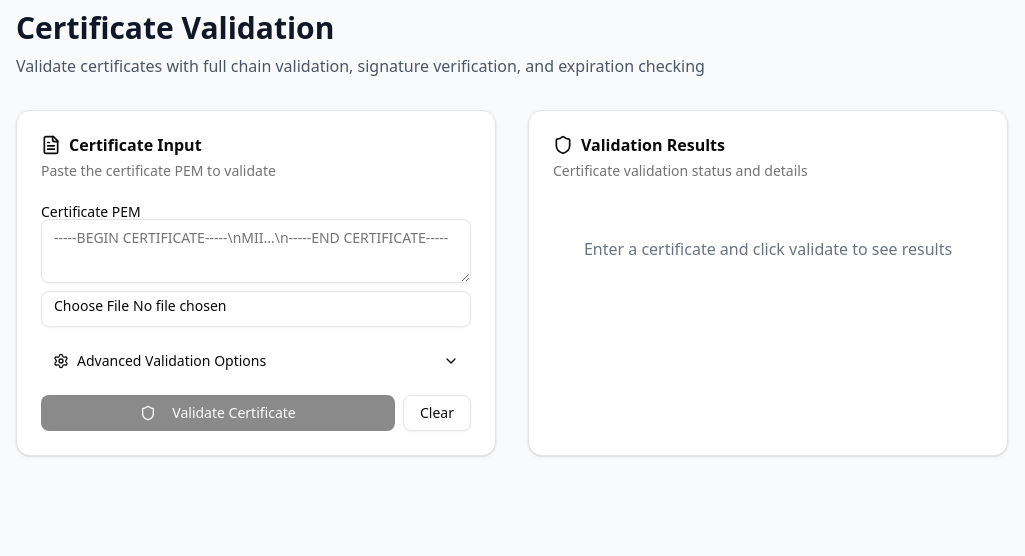
Test case: Certificate Validation Page › Validation Flow › should show frontend error for invalid PEM format
The image size is (1025, 556).
Replace the text in the text box labelled "Certificate PEM" with "invalid pem content" at (256, 251), box [41,219,471,283]
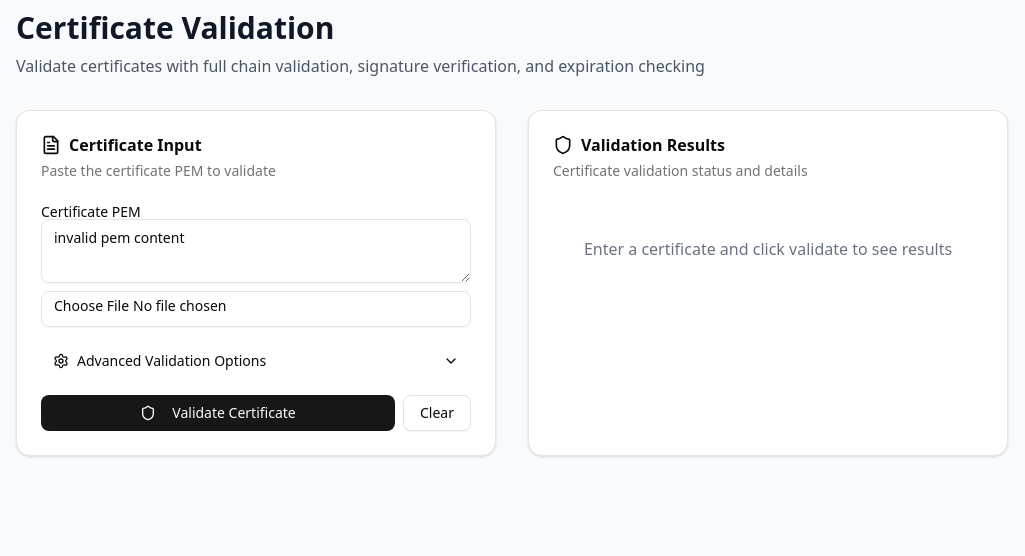
Click the button "Validate Certificate".
click(218, 413)  # box [41,395,395,431]
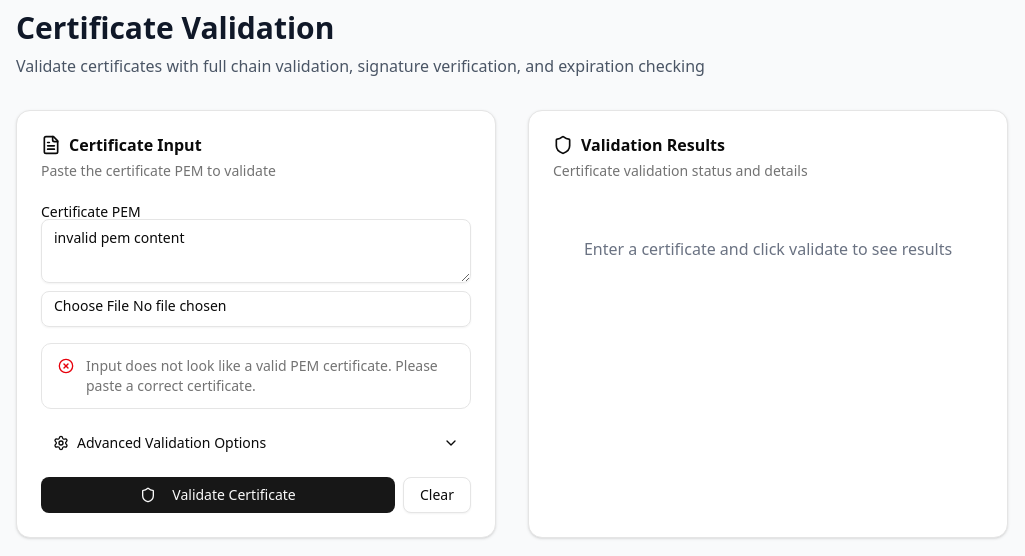
Check: the text "Input does not look like a valid PEM certificate" is shown, box [86,356,438,395]
